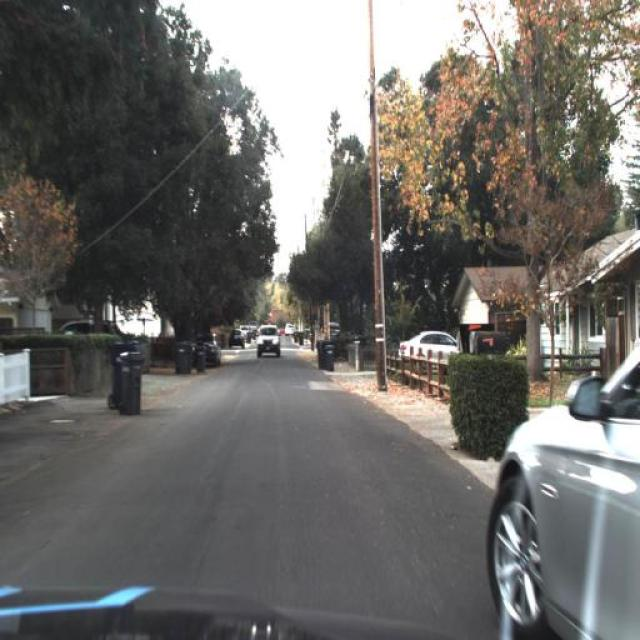car: (484, 320, 638, 639), (392, 325, 462, 364), (50, 313, 116, 352), (191, 329, 221, 367), (255, 325, 283, 355), (321, 318, 341, 341), (228, 330, 246, 350), (285, 322, 296, 338)
